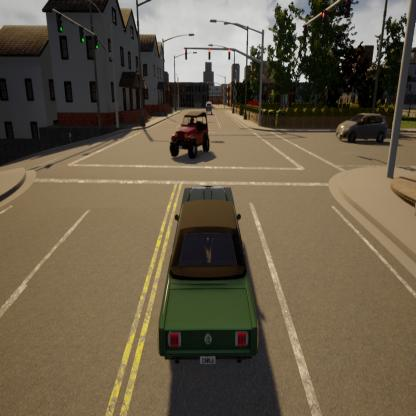Cars: (155, 158, 265, 378), (322, 82, 396, 154), (148, 98, 217, 161), (200, 80, 216, 123)
